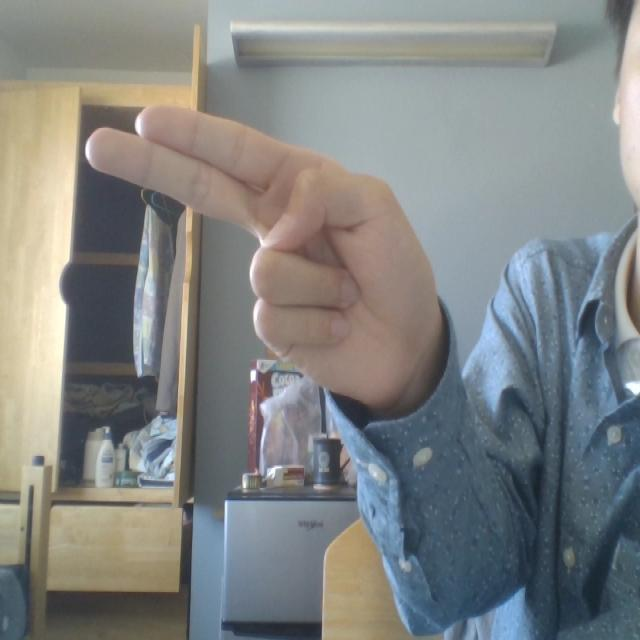H: (71, 43, 493, 461)
